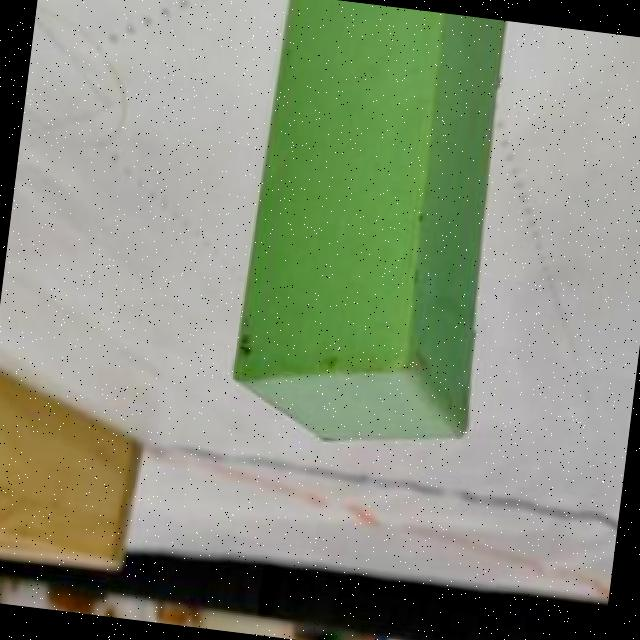greenbox: (216, 0, 515, 465)
